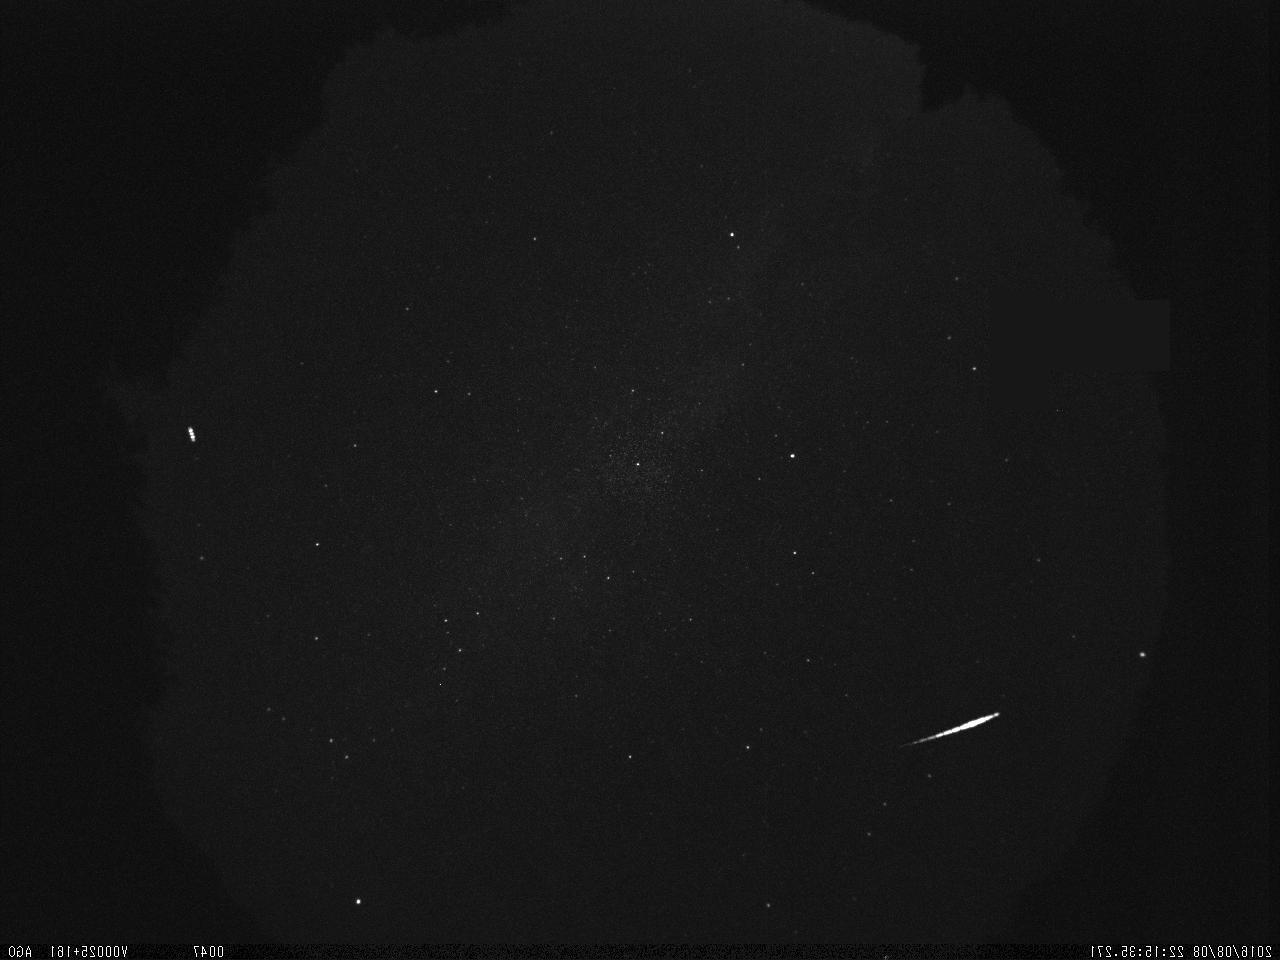meteor: (876, 695, 1018, 767)
